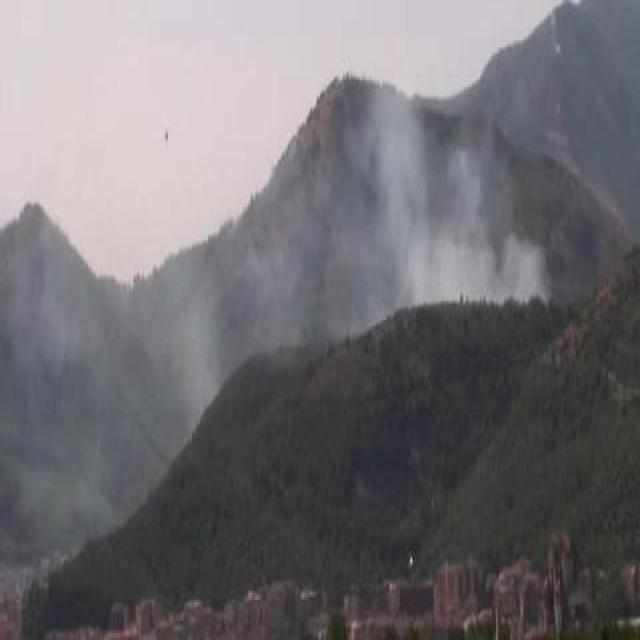Smoke: (332, 92, 540, 308)
